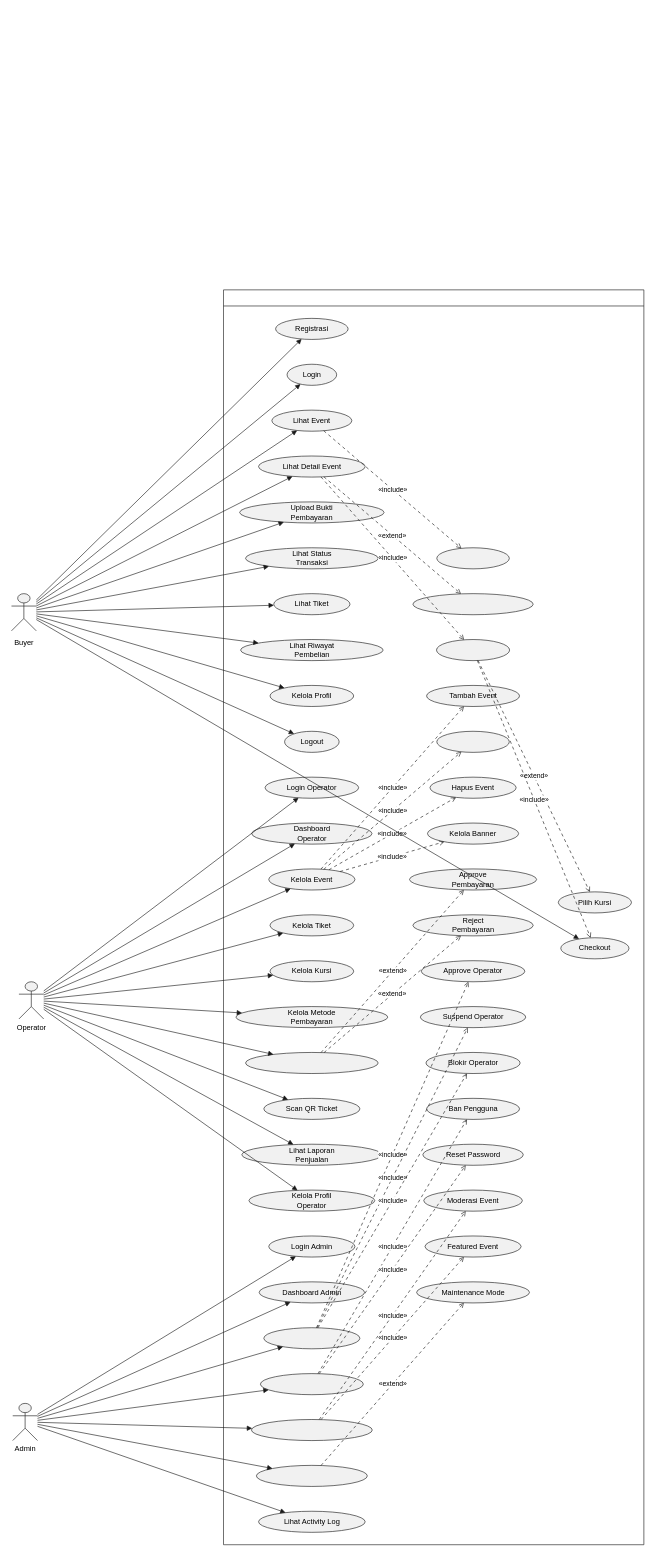
Image size: 655x1556. Some labels were removed from this diagram. Each missing label, with the centre of its shape:
Cari Event: (472,558)
Edit Event: (472,741)
Kelola Event Platform: (311,1430)
Kelola Operator: (311,1338)
Kelola Pengguna: (311,1384)
Masuk Waiting Room: (472,604)
Pengaturan Sistem: (311,1475)
Pilih Tiket: (473,650)
Verifikasi Pembayaran: (311,1063)
